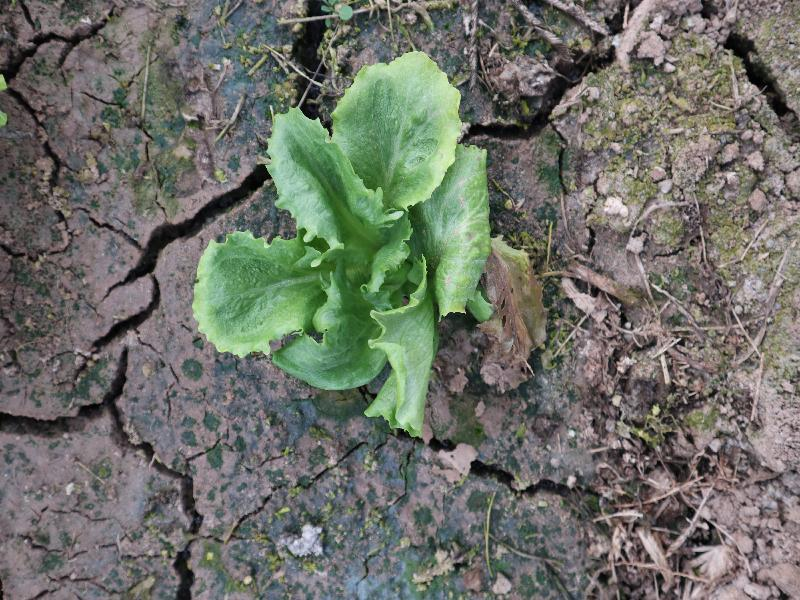lettuce: (190, 48, 493, 438)
